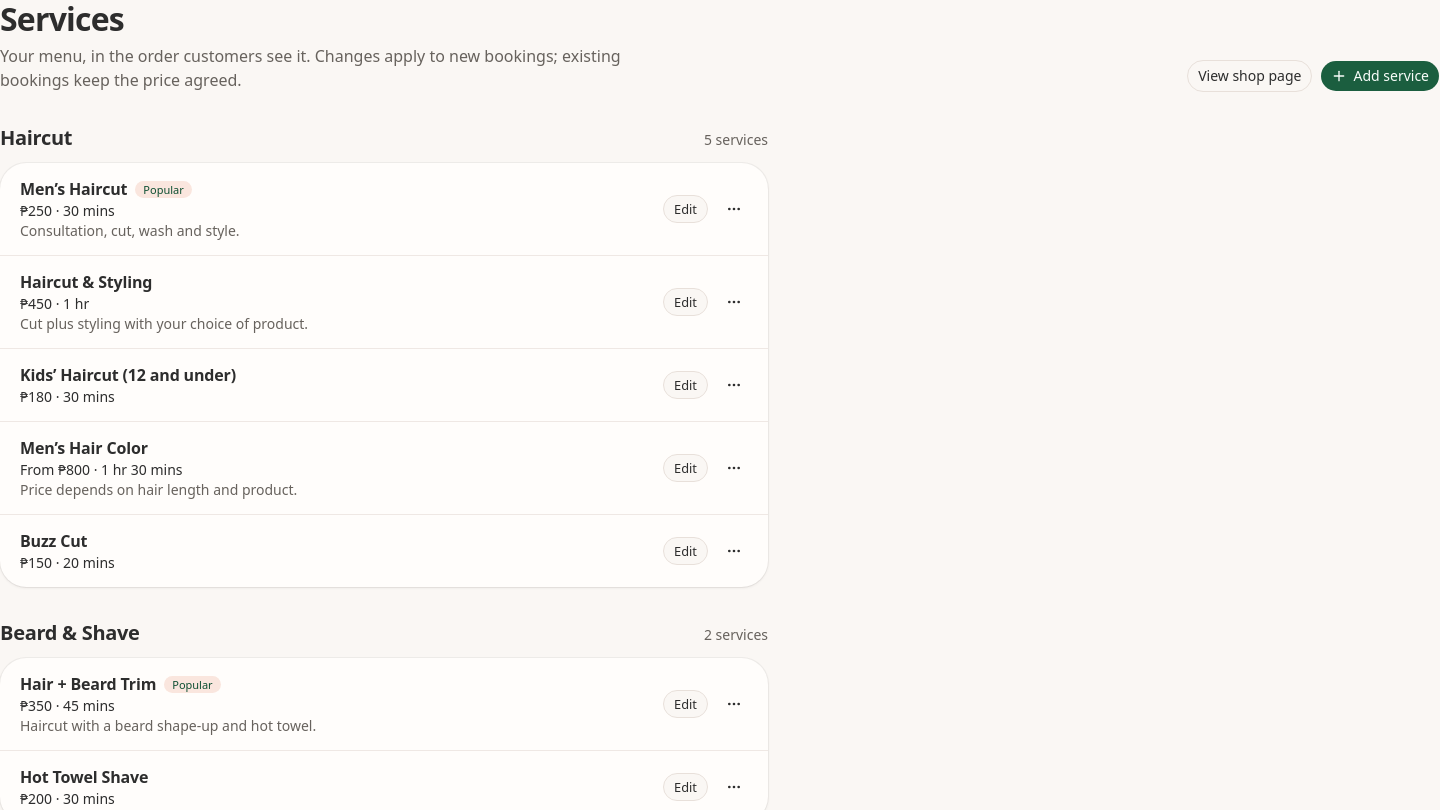
Scenario: MerchantServicesPage › deletes a service nobody has booked, and explains why a booked one stays
This screenshot has width=1440, height=810.
Click the button named "More actions for Men’s Haircut": (734, 209) [720,195,748,223]
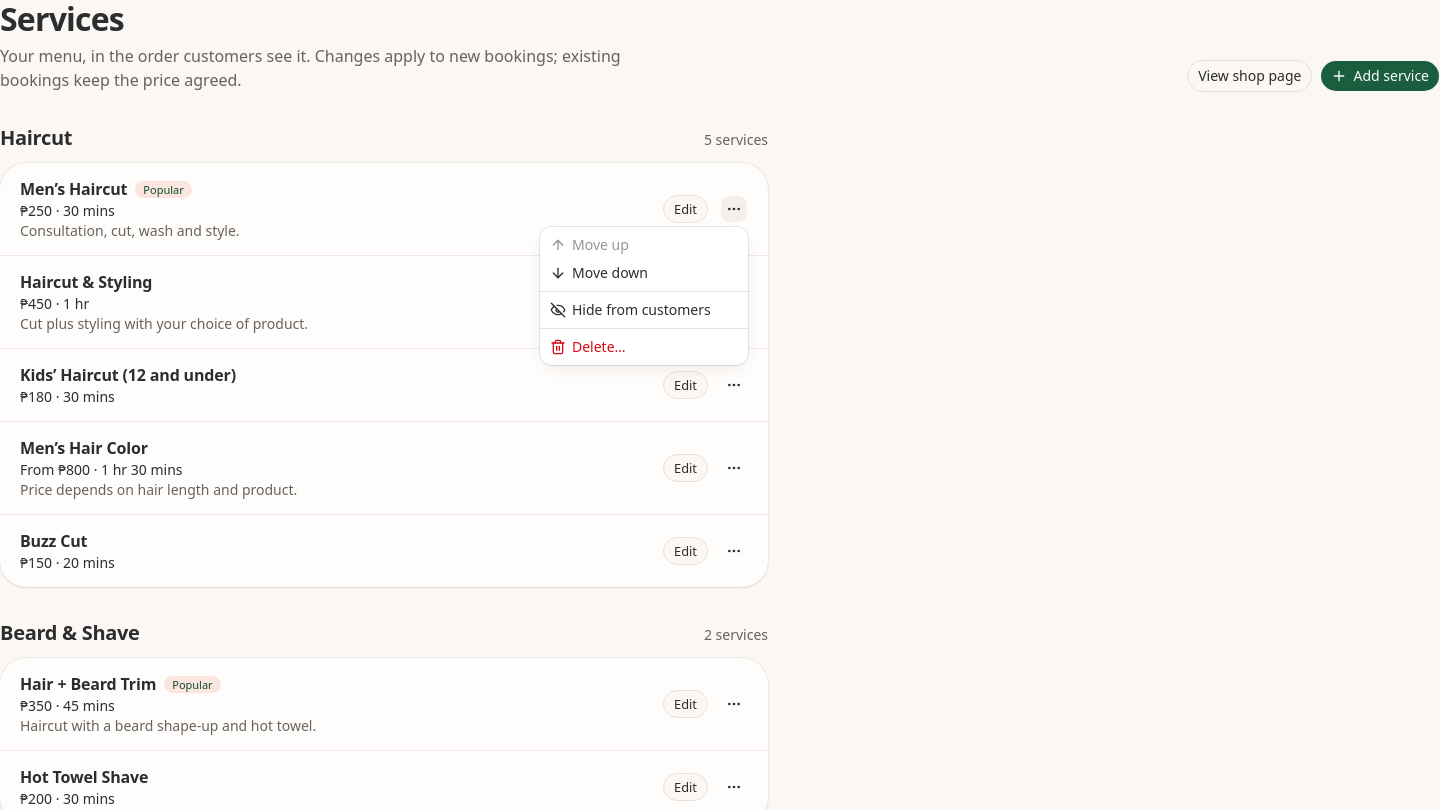
Click the menu item "Delete…": (588, 346) [550,337,626,356]
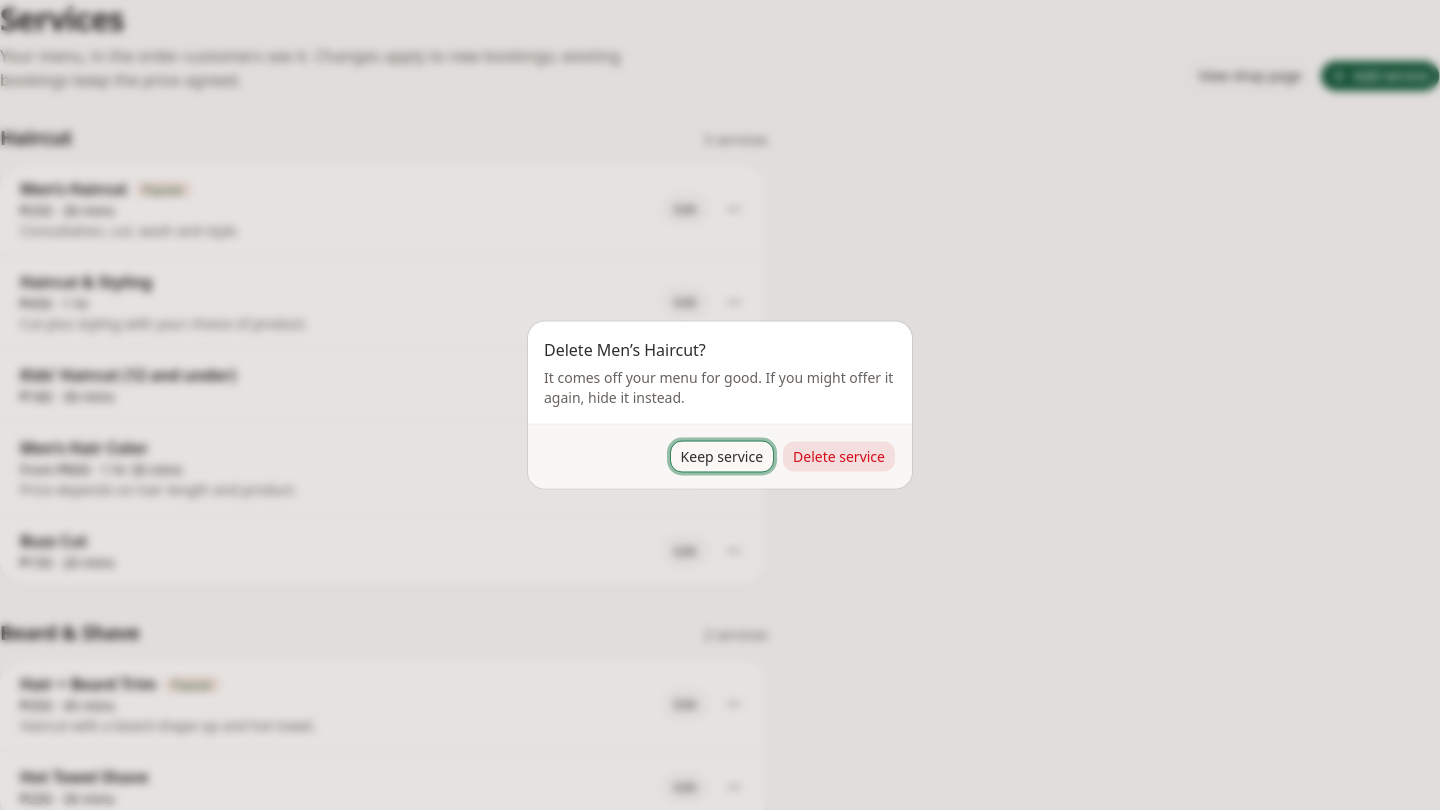
Click the button "Delete service": (839, 456) [782,440,896,472]
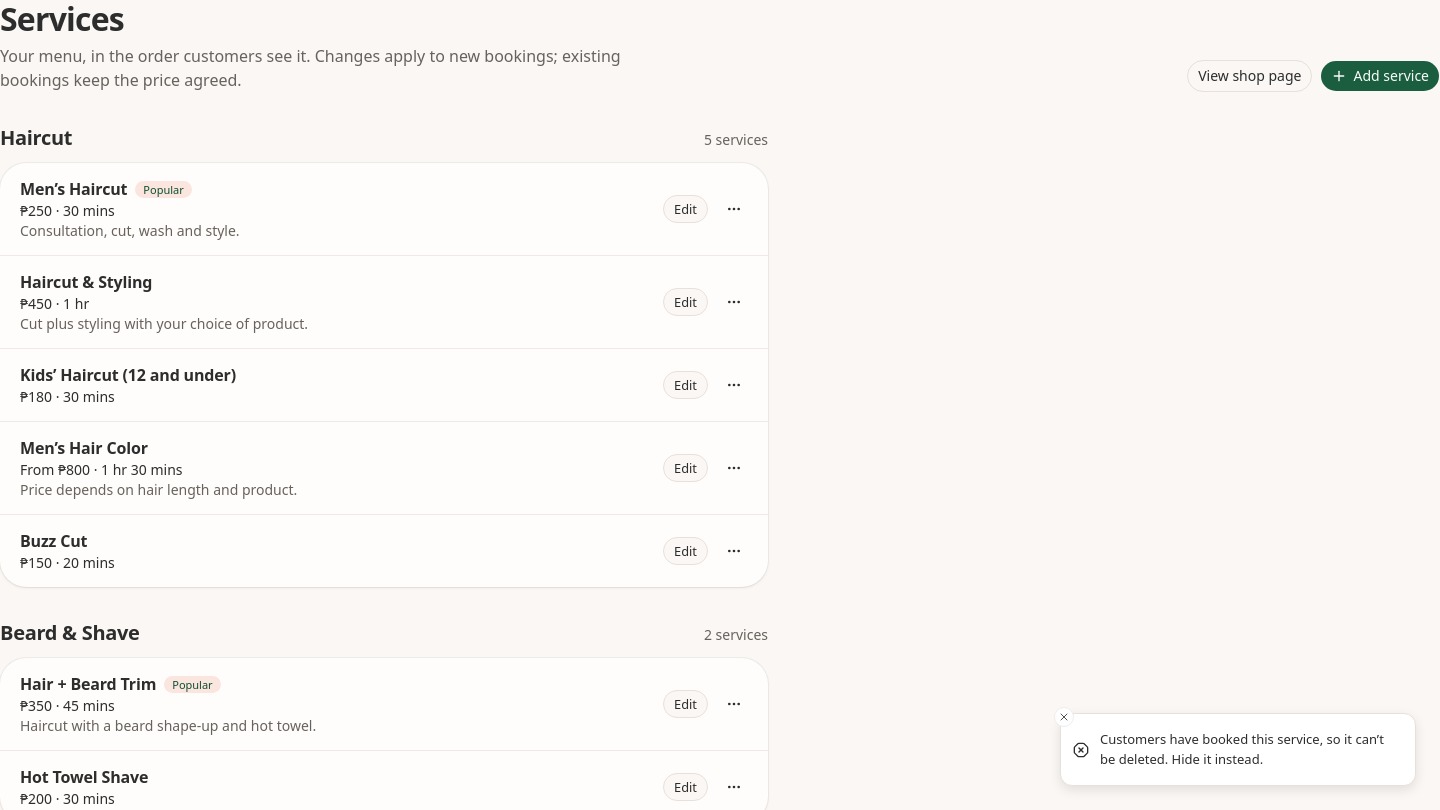
Check: the heading "Men’s Haircut" is shown, box [20,177,127,201]
Check: the text "Customers have booked this service, so it can’t be deleted. Hide it instead." is shown, box [1100,730,1399,769]
Check: the dialog is gone
Click the button named "More actions for Buzz Cut": (734, 551) [720,537,748,565]
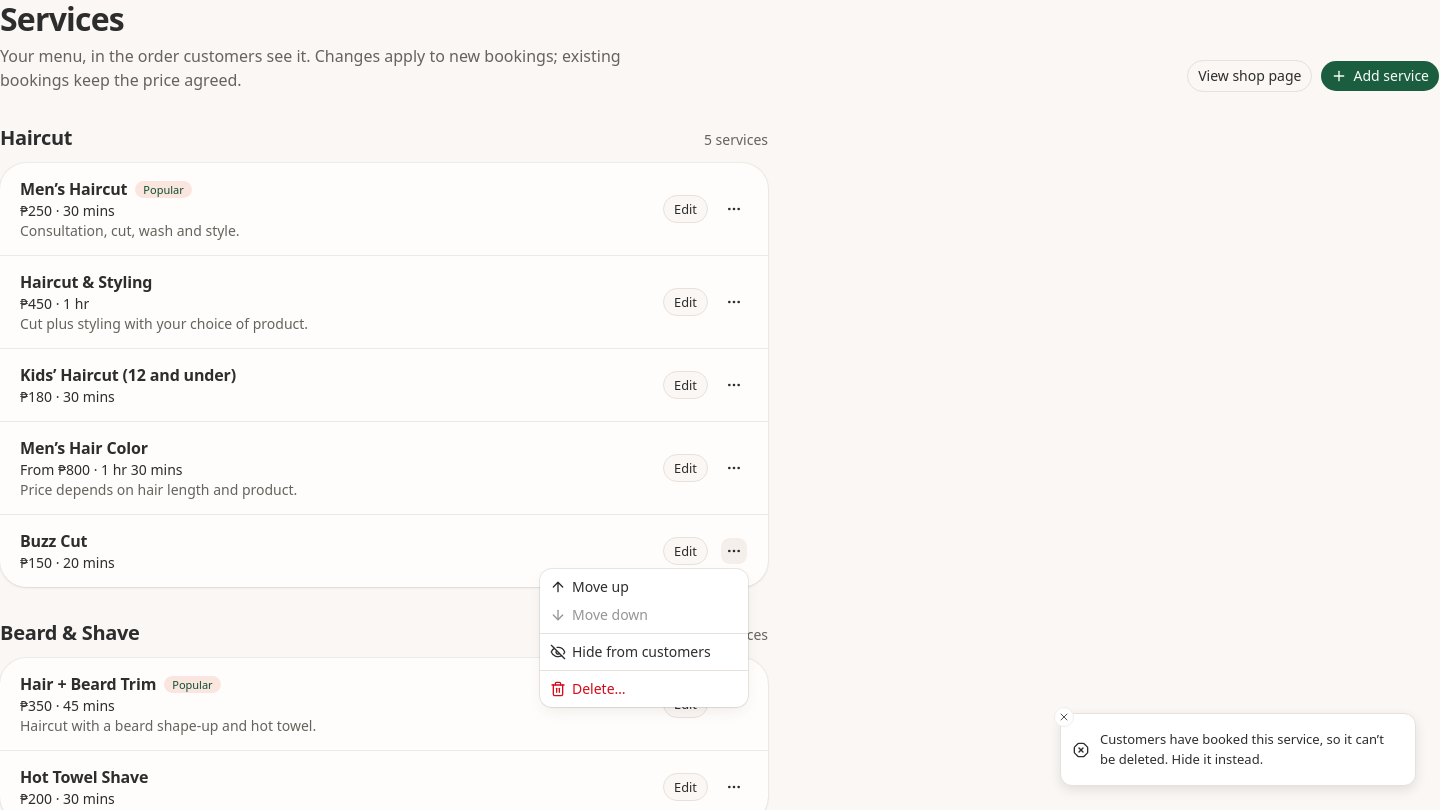
Click the menu item "Delete…": (588, 688) [550,679,626,698]
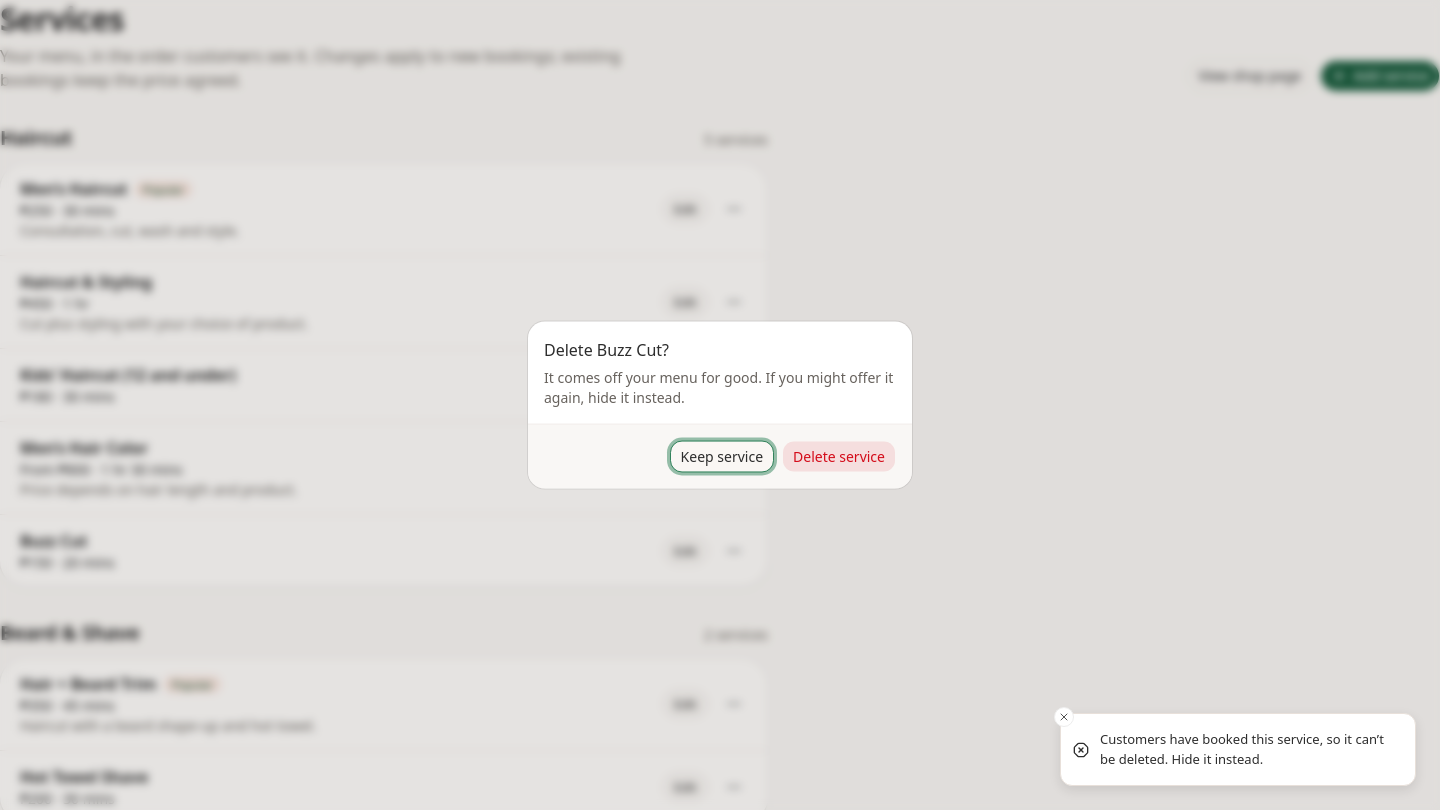
Click the button "Delete service": (839, 456) [782,440,896,472]
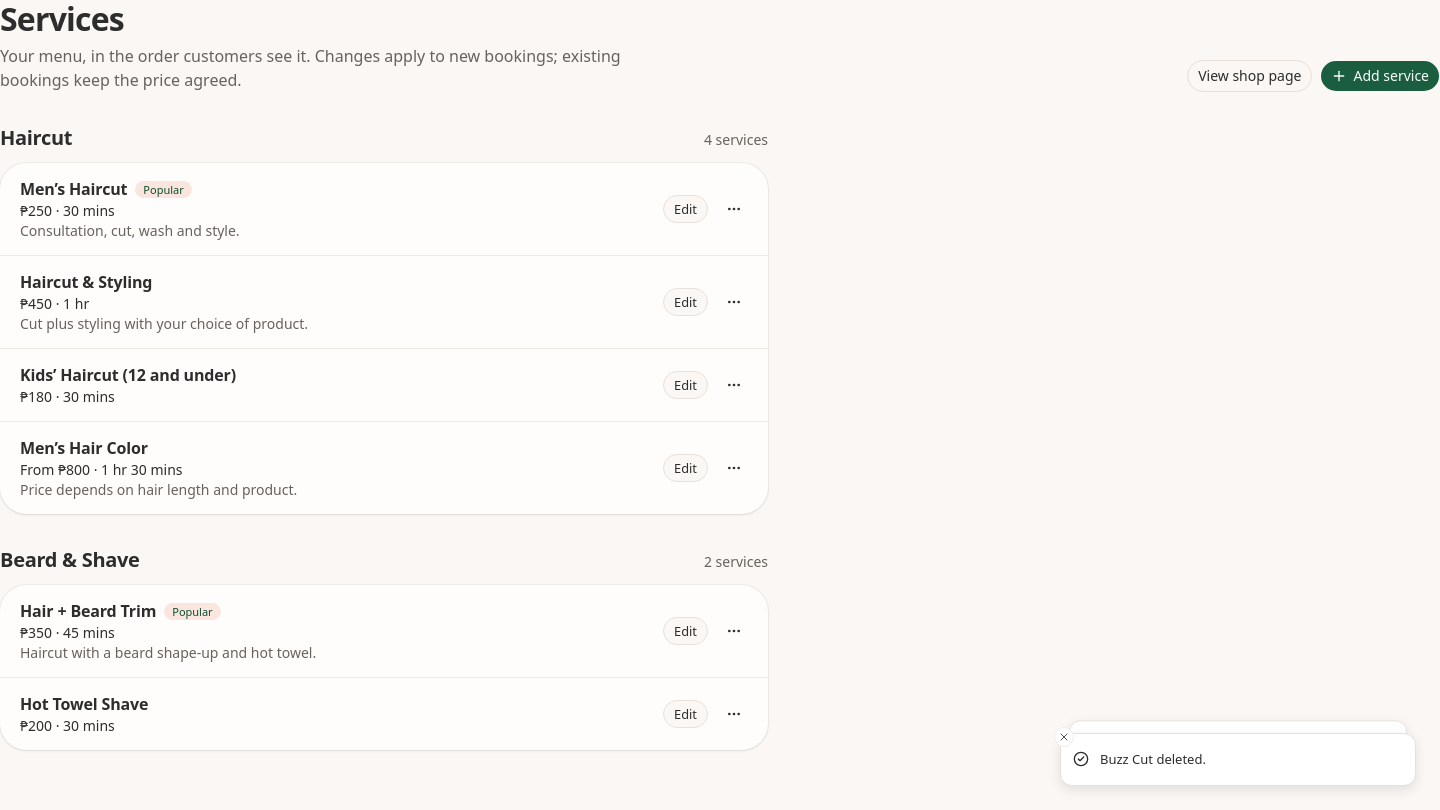
Check: the text "Buzz Cut deleted." is shown, box [1100,750,1206,769]
